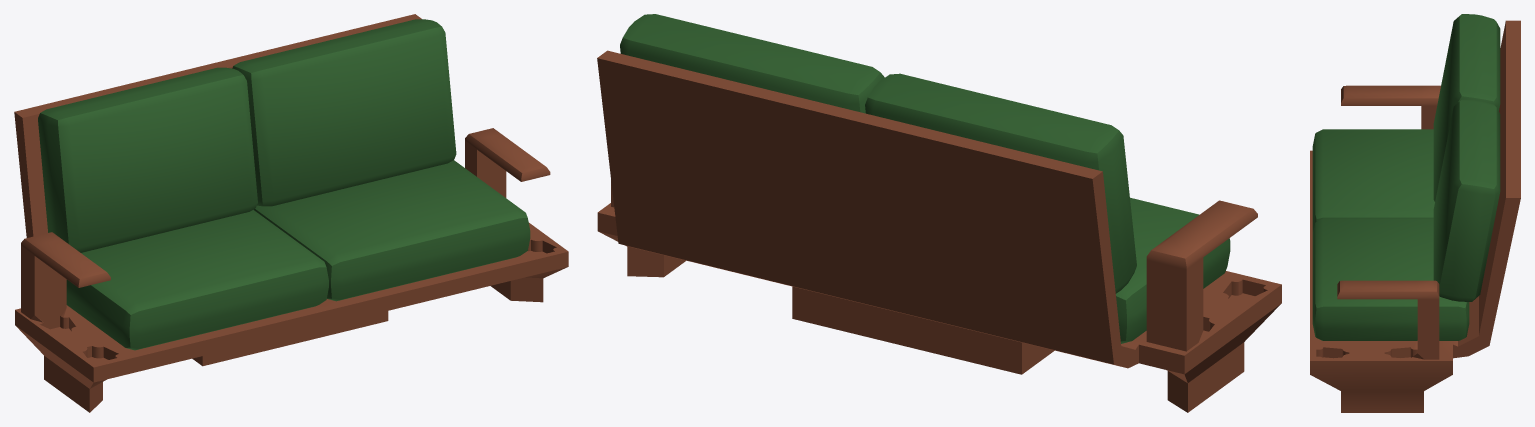
File: Couch.fbx
3 views of the same model, side by side, from view 1: azimuth 30°, elevation 25°; view 2: azimuth 150°, elevation 25°; view 3: azimuth 270°, elevation 25° (orthographic). The views are drawn at different scales.
Parts seen in each view (by area): view 1: Box044, Box046; view 2: Box046, Box044; view 3: Box044, Box046.
Part boxes in pixels (box(x1,y1,x2,y2)): Box044: box(38, 19, 530, 350); Box046: box(14, 14, 568, 412); Box046: box(597, 50, 1281, 412); Box044: box(620, 14, 1230, 343); Box044: box(1312, 14, 1500, 340); Box046: box(1310, 20, 1520, 412).
Size of the model in its own units: 135 by 64.24 by 57.15.
